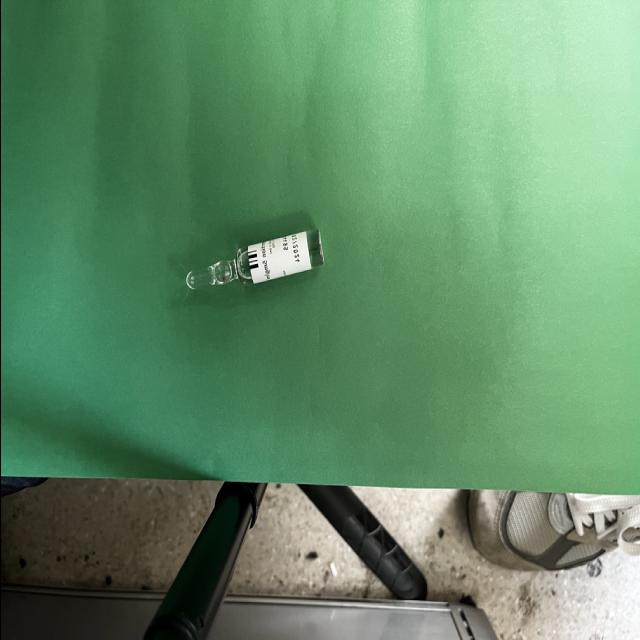Ampoules: (184, 230, 323, 290)
